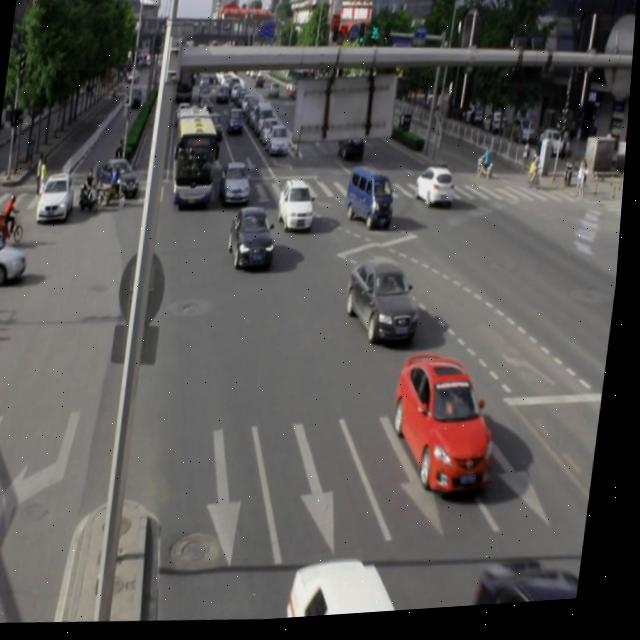car: (391, 352, 512, 504), (346, 259, 430, 351), (230, 207, 281, 275), (279, 181, 320, 237), (415, 168, 460, 213), (222, 163, 256, 209)
truck: (345, 168, 401, 234)
